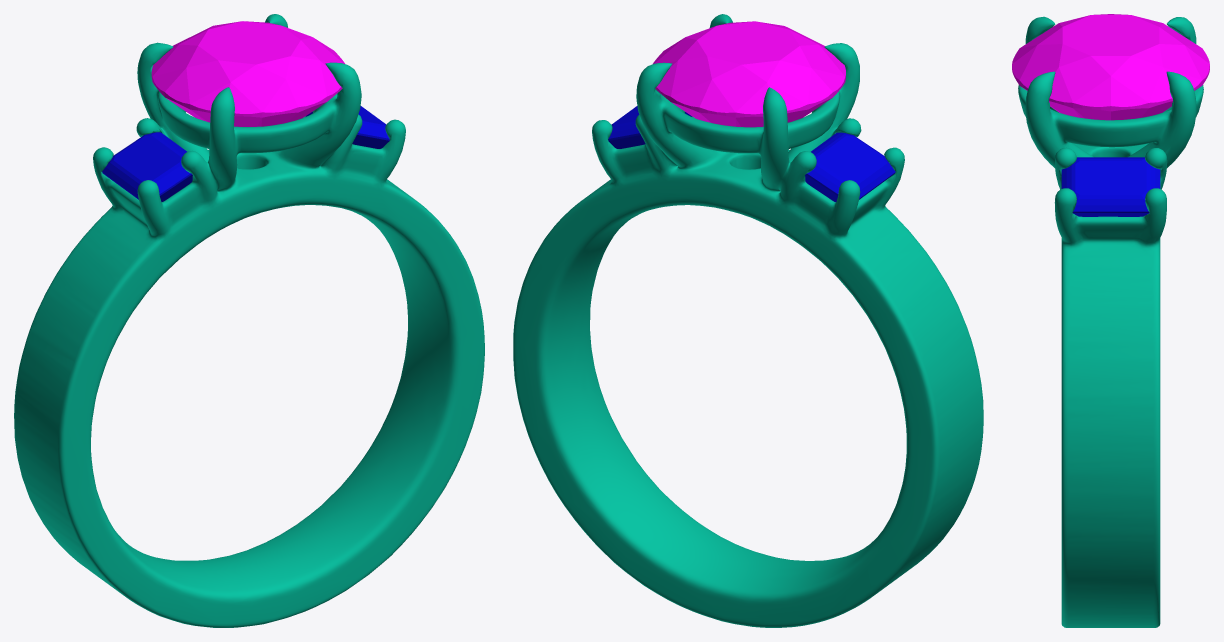
Rendered from BE1D573_RD_200ct_RENDER.glb.
3 views of the same model, side by side, from view 1: azimuth 30°, elevation 25°; view 2: azimuth 150°, elevation 25°; view 3: azimuth 270°, elevation 25° (orthographic).
Visible parts, largest first — view 1: Metal 01, CS_Diamond_Round, Diamond_Emerald_side, Diamond_Emerald_side.001; view 2: Metal 01, CS_Diamond_Round, Diamond_Emerald_side, Diamond_Emerald_side.001; view 3: Metal 01, CS_Diamond_Round, Diamond_Emerald_side.001.
Part boxes in pixels (x1,y1,x2,y2): Metal 01: (14, 14, 484, 627); CS_Diamond_Round: (151, 21, 344, 126); Diamond_Emerald_side: (102, 132, 192, 201); Diamond_Emerald_side.001: (305, 106, 389, 148); Metal 01: (513, 14, 983, 627); CS_Diamond_Round: (653, 21, 845, 127); Diamond_Emerald_side: (805, 132, 895, 202); Diamond_Emerald_side.001: (608, 106, 691, 148); Metal 01: (1018, 16, 1203, 627); CS_Diamond_Round: (1012, 14, 1209, 120); Diamond_Emerald_side.001: (1061, 157, 1160, 216).
Bounding box in the file's own units: 20.1 × 25.39 × 8.
